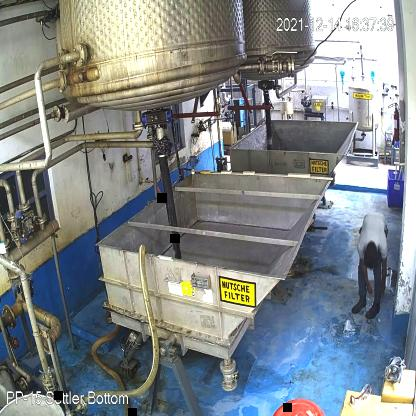shoes: (362, 301, 382, 322), (351, 291, 369, 314)
